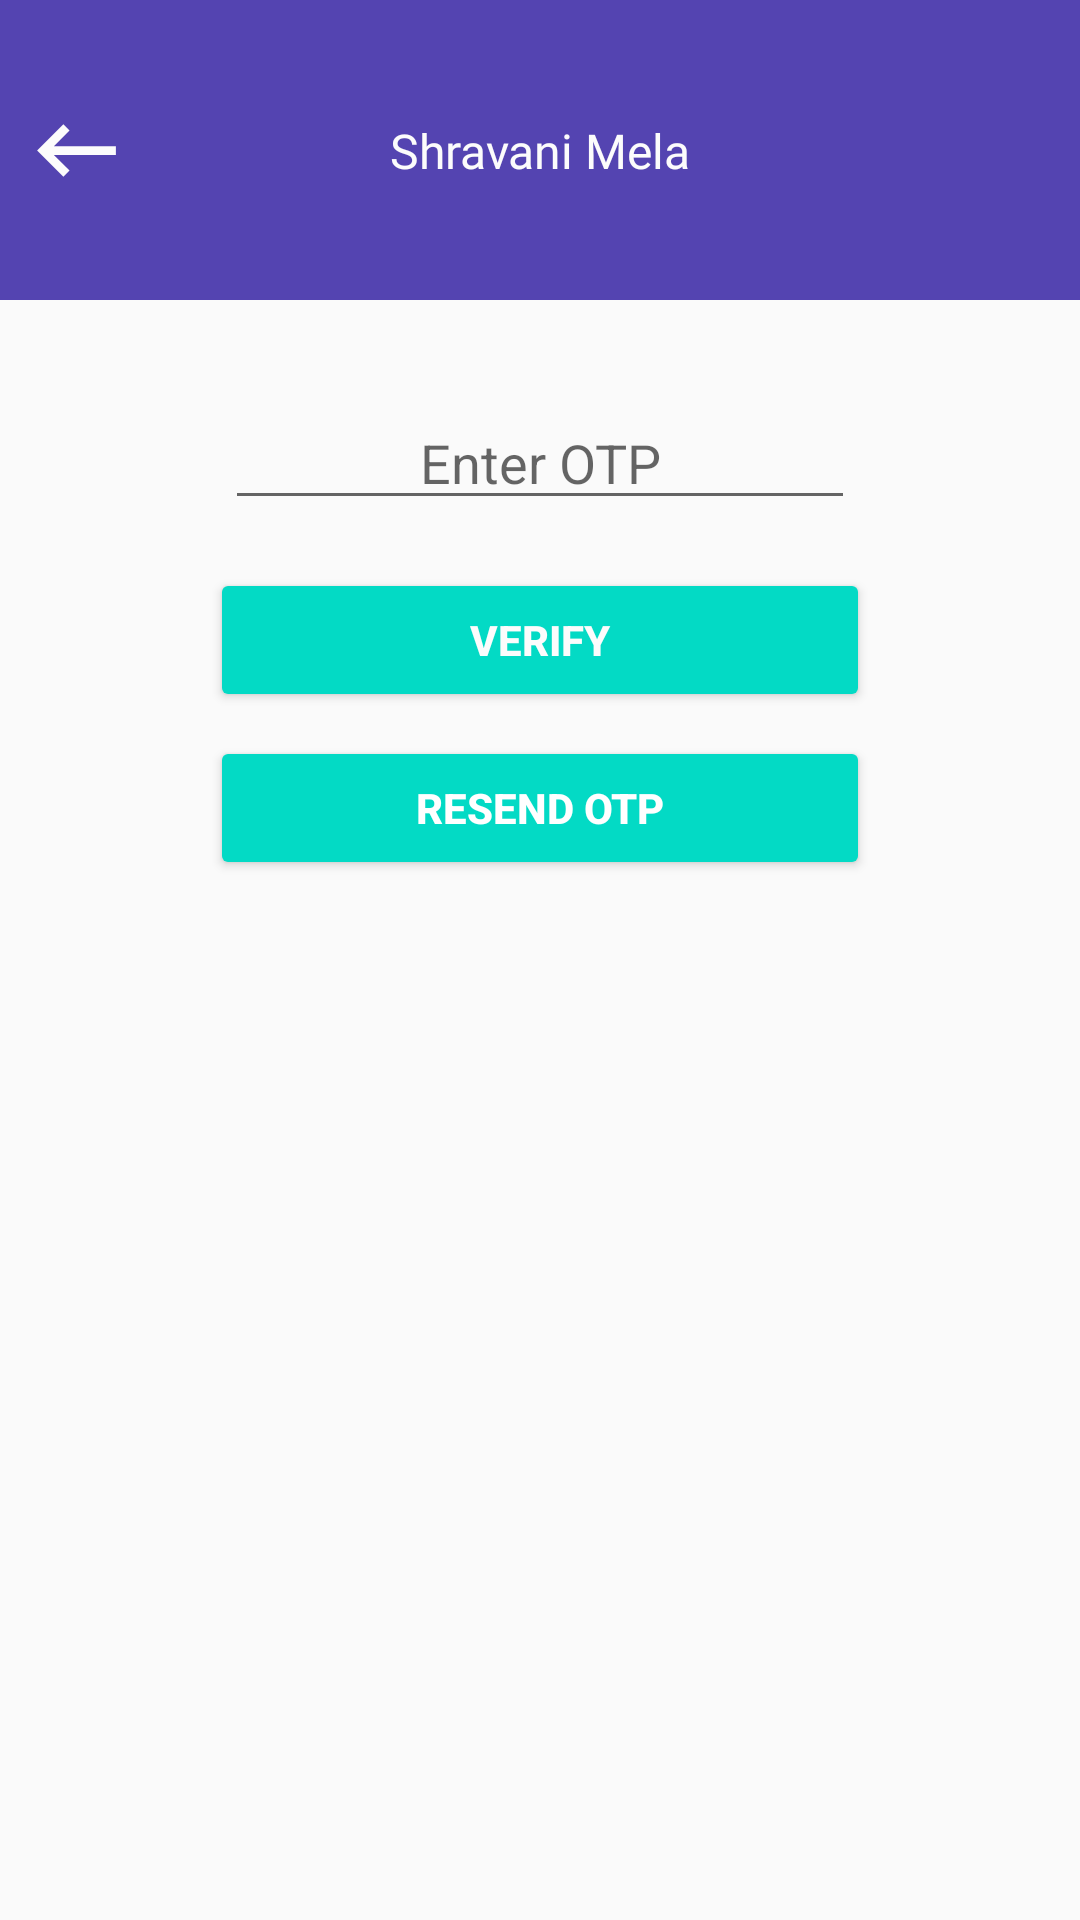

Icons on this 1080 × 1920 Android screen, each with the point to tap as point (x, y):
keyboard backspace: point (76, 150)
